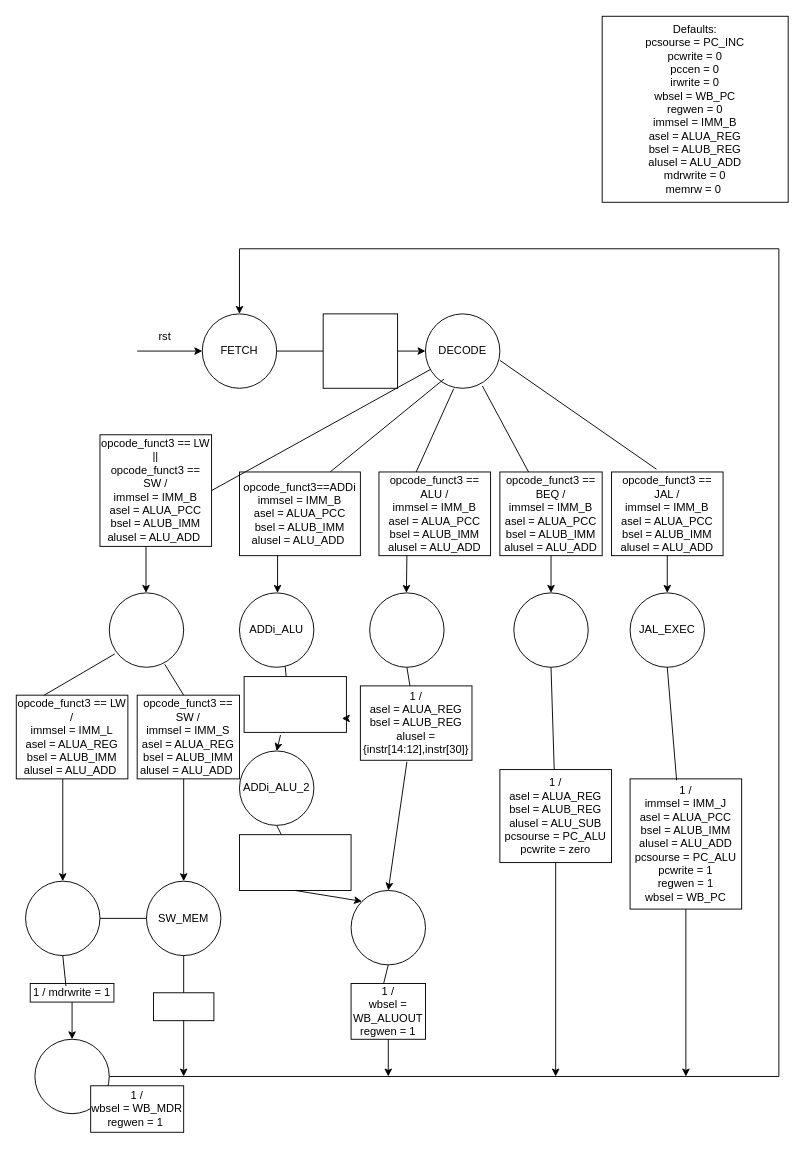
This 804x1149 diagram has some shape labels left out. Each missing label, with the centre of its shape:
"1 / memrw = 1" belongs at point (183, 1006).
"asel = ALUA_ALU bsel = ALUB_1nes alusel = ALU_XOR" belongs at point (295, 862).
"asel = ALUA_REG bsel = ALUB_IMM alusel = ALU_ADD immsel = IMM_S" belongs at point (294, 704).
"BEQ_EXEC" belongs at point (550, 629).
"LSW_ADDR" belongs at point (146, 629).
"LW_MEM" belongs at point (62, 918).
"LW_WB" belongs at point (71, 1076).
"pccen = 1 pcwrite = 1 irwrite = 1 pcsourse = PC_INC" belongs at point (360, 350).
"RTYPE_ALU" belongs at point (406, 629).
"RTYPE_WB" belongs at point (387, 927).
